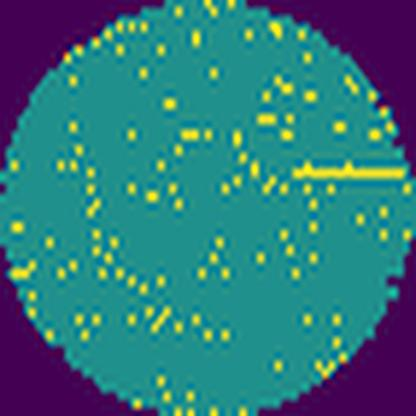Scratch: (284, 153, 408, 190)
